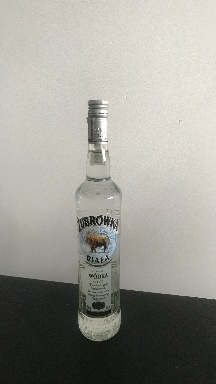butelka: (73, 96, 123, 343)
